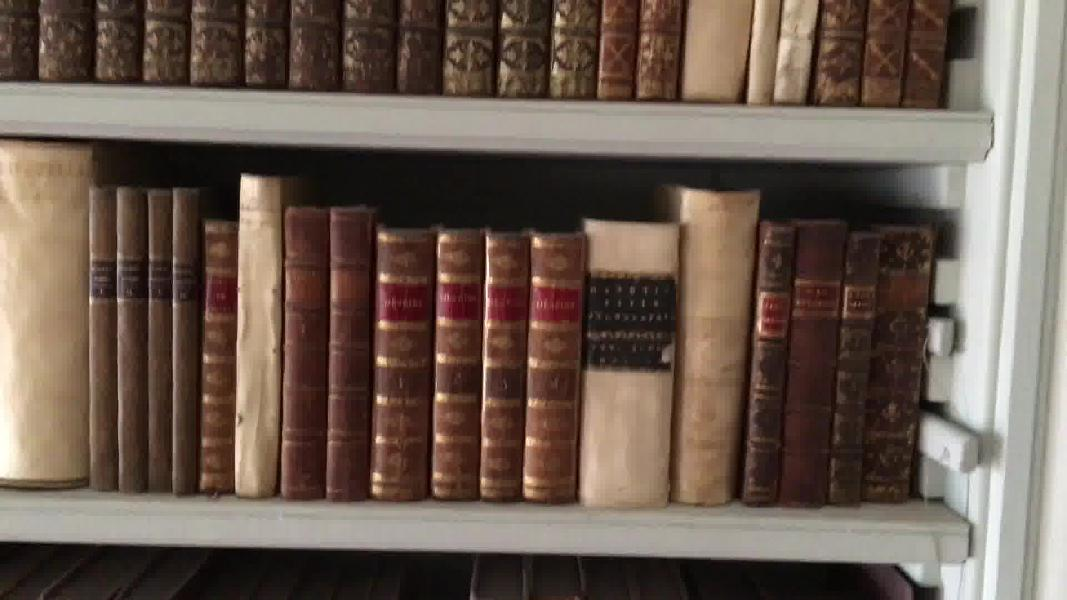Kk4-14: (2, 141, 93, 493)
Kk4-15_16: (83, 178, 147, 498)
Kk4-17_18: (143, 181, 204, 495)
Kk4-19: (199, 217, 237, 500)
Kk4-20: (231, 166, 287, 495)
Kk4-21_22: (283, 203, 373, 499)
Kk4-23_26: (369, 223, 587, 507)
Kk4-27: (582, 216, 679, 507)
Kk4-28: (670, 178, 752, 509)
Kk4-29: (745, 219, 797, 509)
Kk4-30: (783, 214, 845, 514)
Kk4-31: (832, 223, 879, 512)
Kk4-32: (864, 216, 938, 509)
